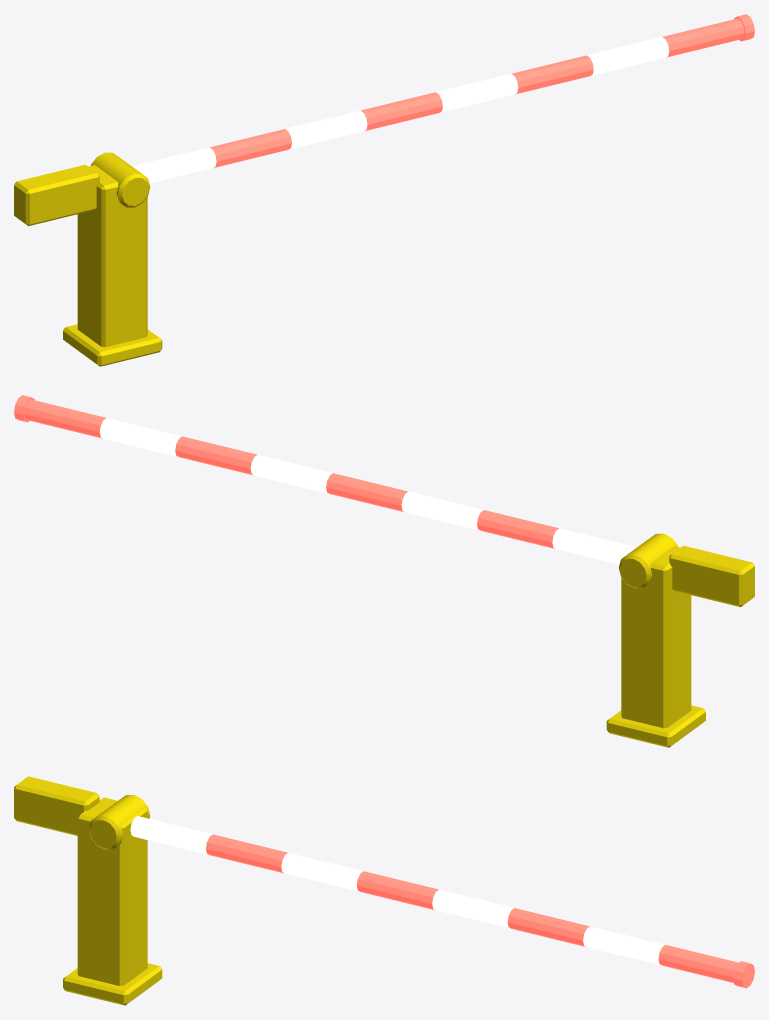
File: barrier.glb
3 renders of one model, top to bottom at view 1: azimuth 30°, elevation 25°; view 2: azimuth 150°, elevation 25°; view 3: azimuth 330°, elevation 25°, orthographic.
Parts seen in each view (by area): view 1: Barrier_Post, Barrier_ArmRed, Barrier_ArmWhite; view 2: Barrier_Post, Barrier_ArmRed, Barrier_ArmWhite; view 3: Barrier_Post, Barrier_ArmRed, Barrier_ArmWhite.
Boxes of the visible parts, x1,y1,x2,y2 form: Barrier_Post: (14,152,162,366); Barrier_ArmRed: (210,14,754,167); Barrier_ArmWhite: (133,37,669,183); Barrier_Post: (606,533,754,747); Barrier_ArmRed: (14,395,558,548); Barrier_ArmWhite: (99,418,635,564); Barrier_Post: (14,776,162,1005); Barrier_ArmRed: (206,834,754,988); Barrier_ArmWhite: (130,816,664,965).
Size of the model in its own units: 15.7 by 3.78 by 1.4.
